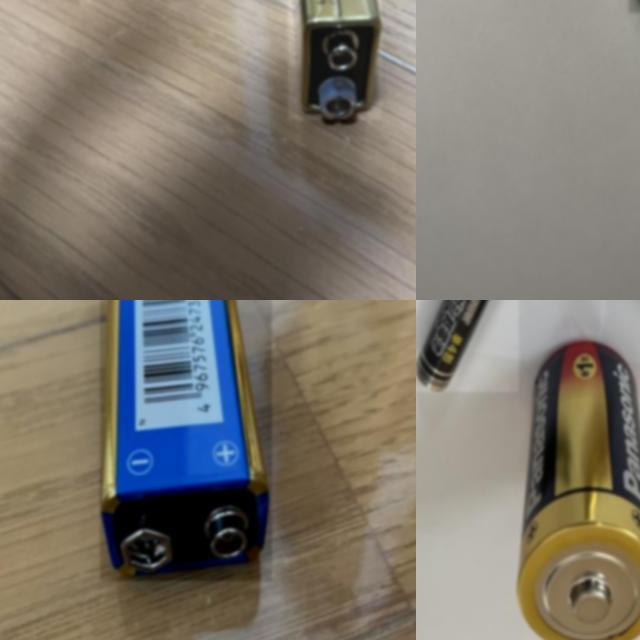9V: (100, 300, 271, 581), (288, 0, 381, 120)
